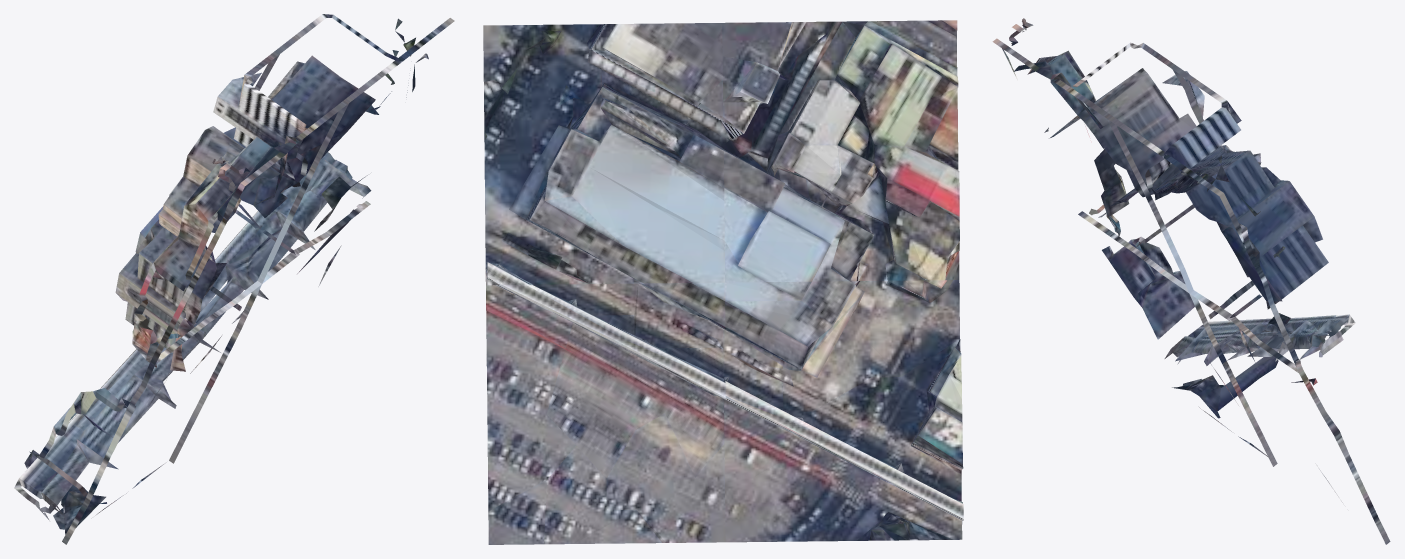
The picture shows the model from 3 angles, left to right: view 1: azimuth 30°, elevation 25°; view 2: azimuth 150°, elevation 25°; view 3: azimuth 270°, elevation 25°; orthographic projection. The views are drawn at different scales.
Bounding box in the file's own units: 161 × 151 × 128.
1 material, 1 textured.
